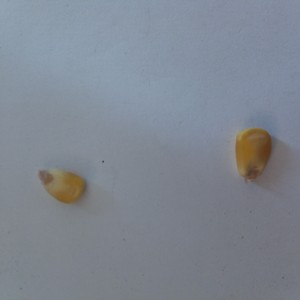maiz: (226, 122, 276, 187), (32, 163, 88, 206)
